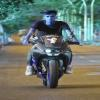motorcycles: (26, 36, 74, 88)
